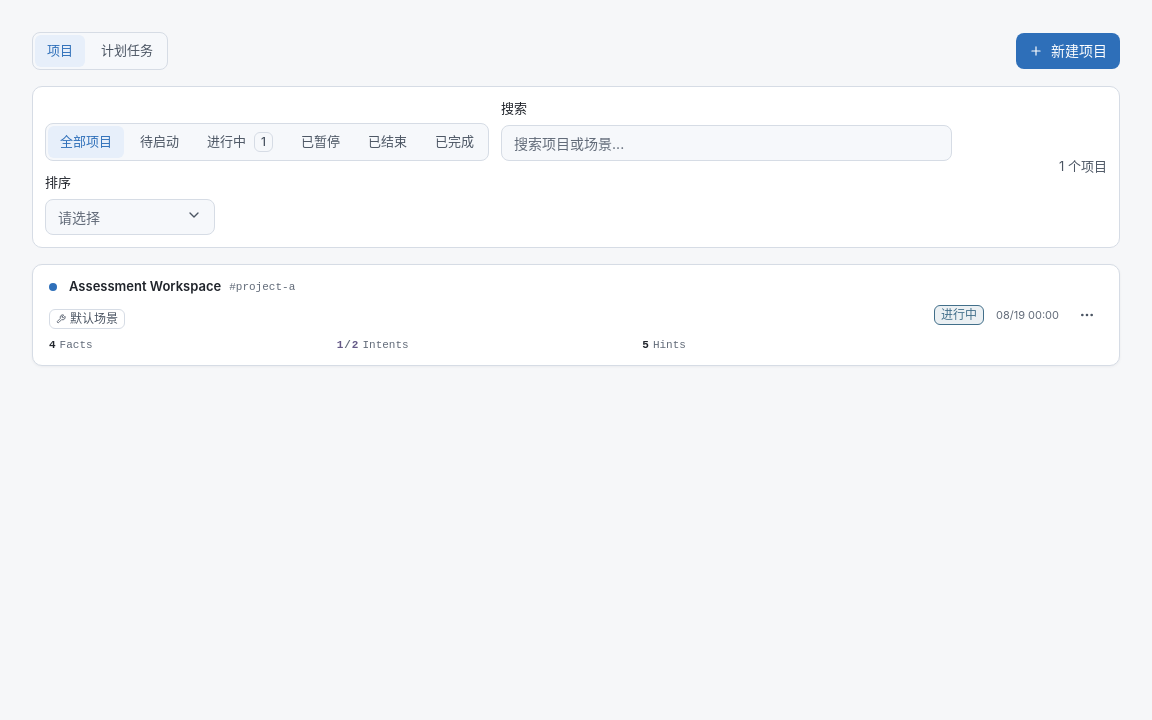
Projects shared control migration › requires finish confirmation and keeps the failure inline
This screenshot has width=1152, height=720.
Click the button named "项目操作菜单".
click(1087, 315)  # box [1071,299,1103,331]
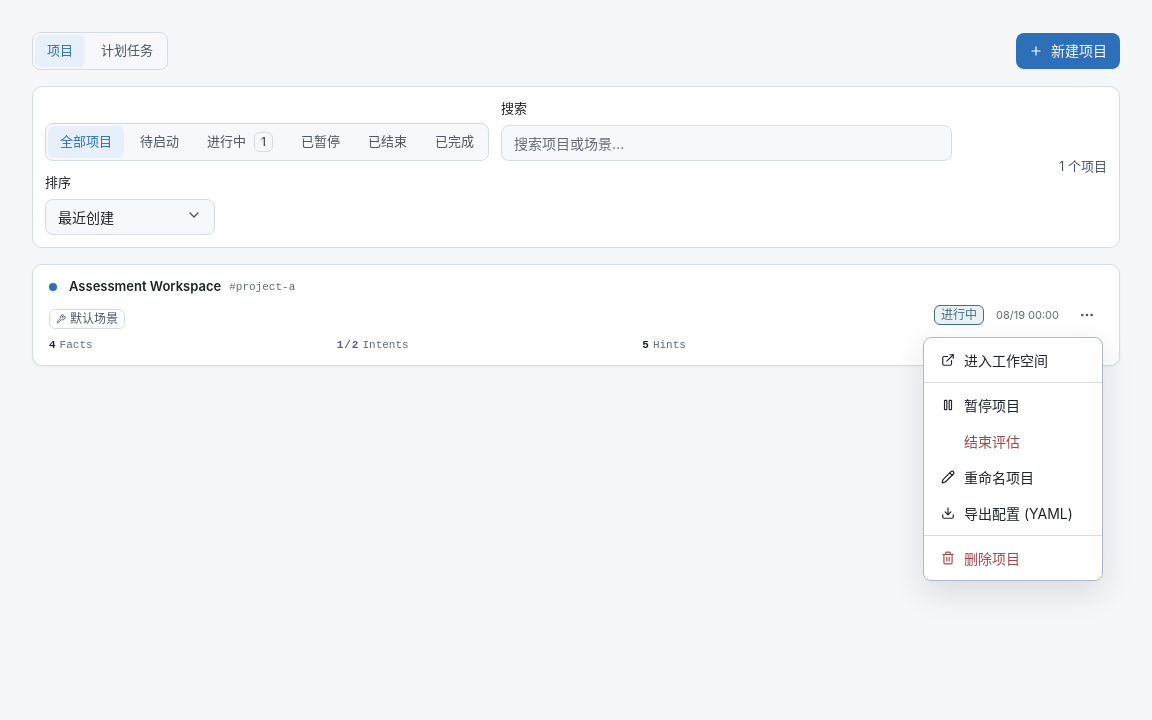
Click the menu item "结束评估".
click(992, 441)  # box [964,432,1020,450]
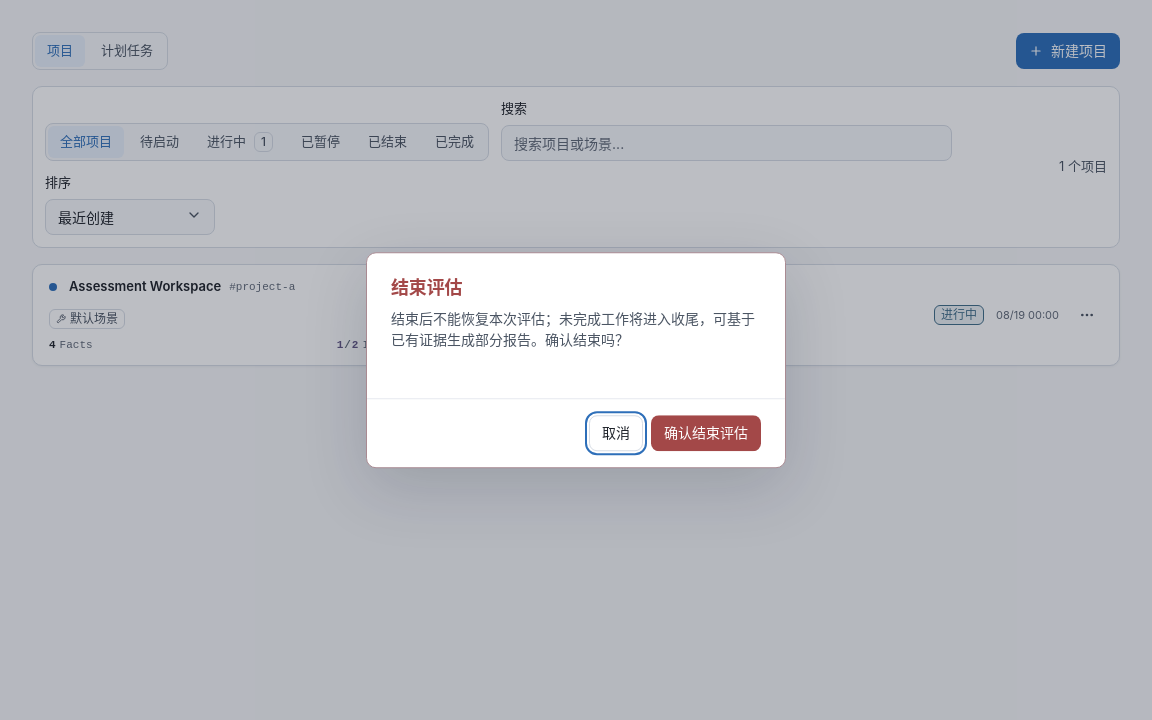
Expected: the dialog shows "不能恢复", [391,310,755,348]
Click the button "确认结束评估".
click(706, 433)  # box [651,415,761,451]
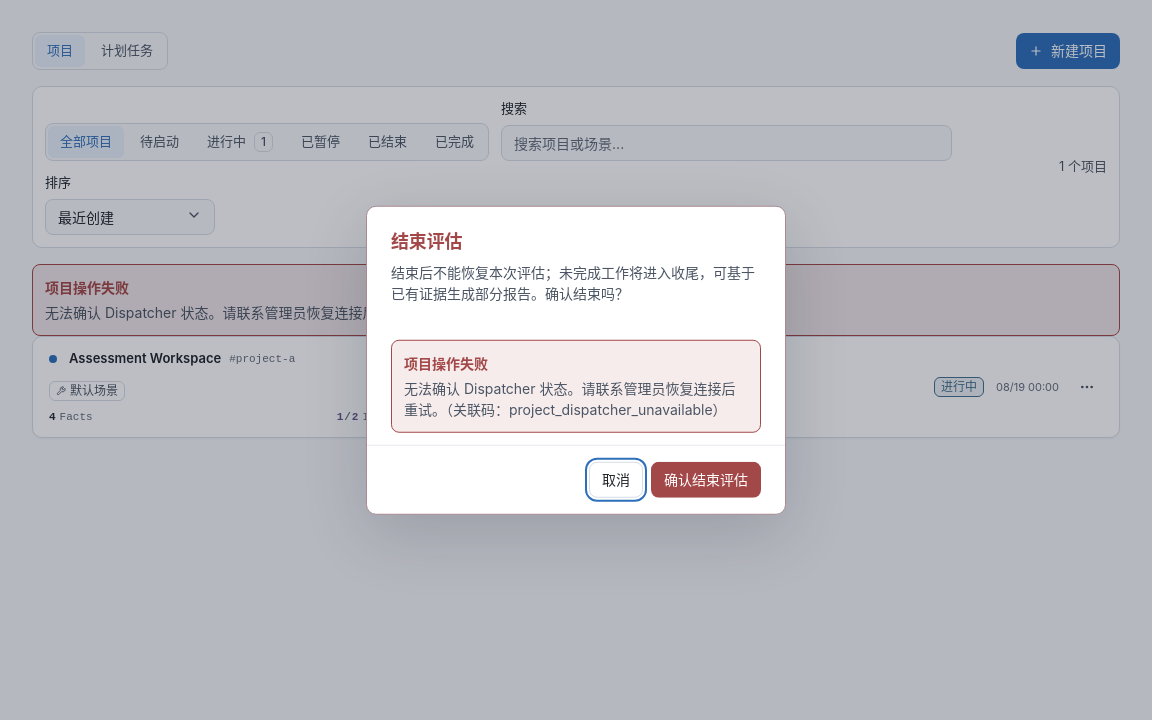
Expected: the text "项目操作失败" is shown, [45,279,129,296]
Expected: the text "关联码：project_dispatcher_unavailable" is shown, [45,304,699,321]
